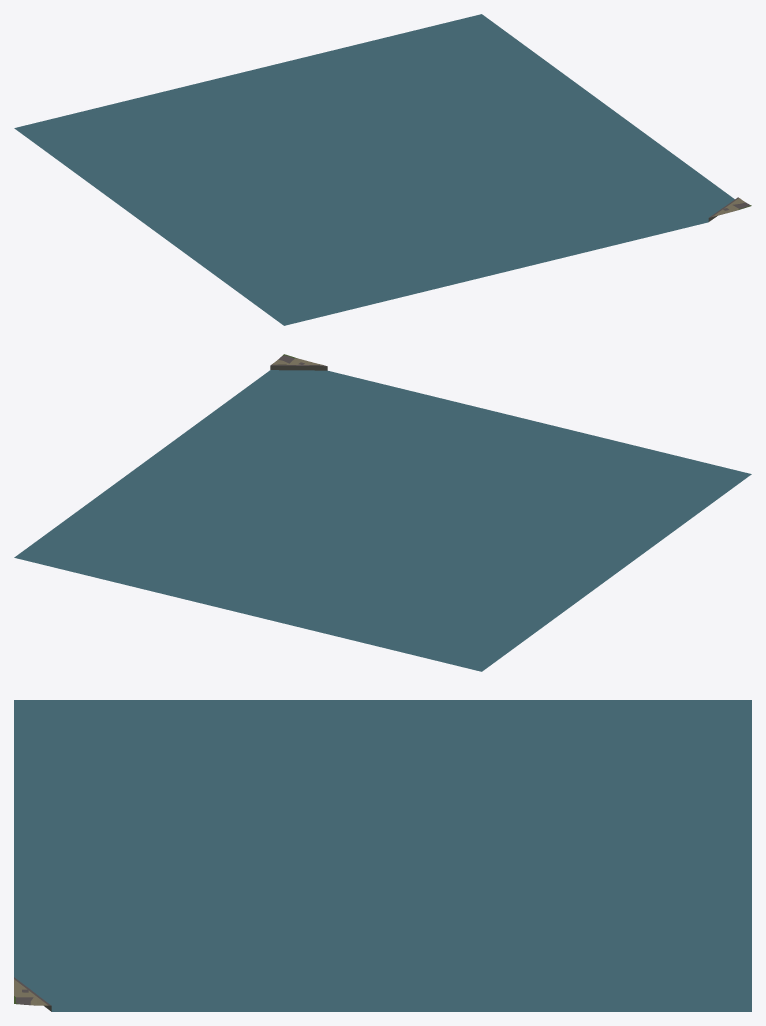
3 views of the same model, one above another, from view 1: azimuth 30°, elevation 25°; view 2: azimuth 150°, elevation 25°; view 3: azimuth 270°, elevation 25° (orthographic). The views are drawn at different scales.
Parts seen in each view (by area): view 1: c_m04_m09; view 2: c_m04_m09; view 3: c_m04_m09.
Boxes of the visible parts, x1,y1,x2,y2 form: c_m04_m09: (14, 14, 751, 325); c_m04_m09: (14, 354, 751, 671); c_m04_m09: (14, 700, 751, 1011).
Size of the model in its own units: 128 by 1.55 by 128.
